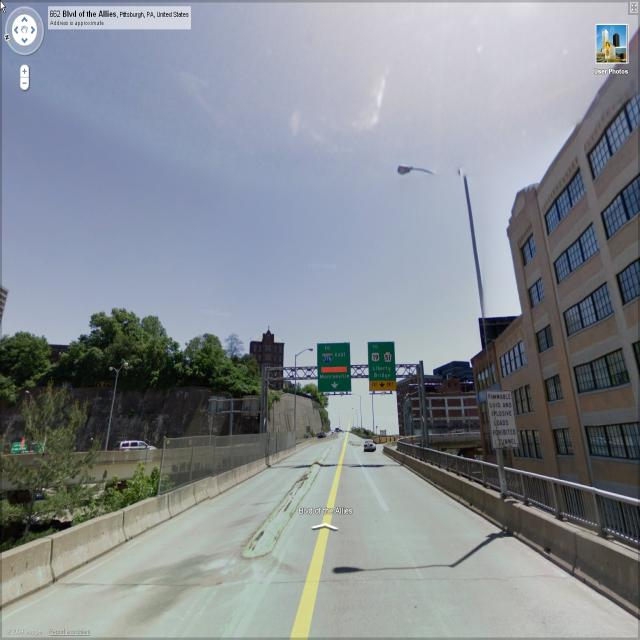b_1: (516, 63, 640, 533), (470, 354, 522, 488), (398, 366, 482, 446), (247, 328, 285, 388)
